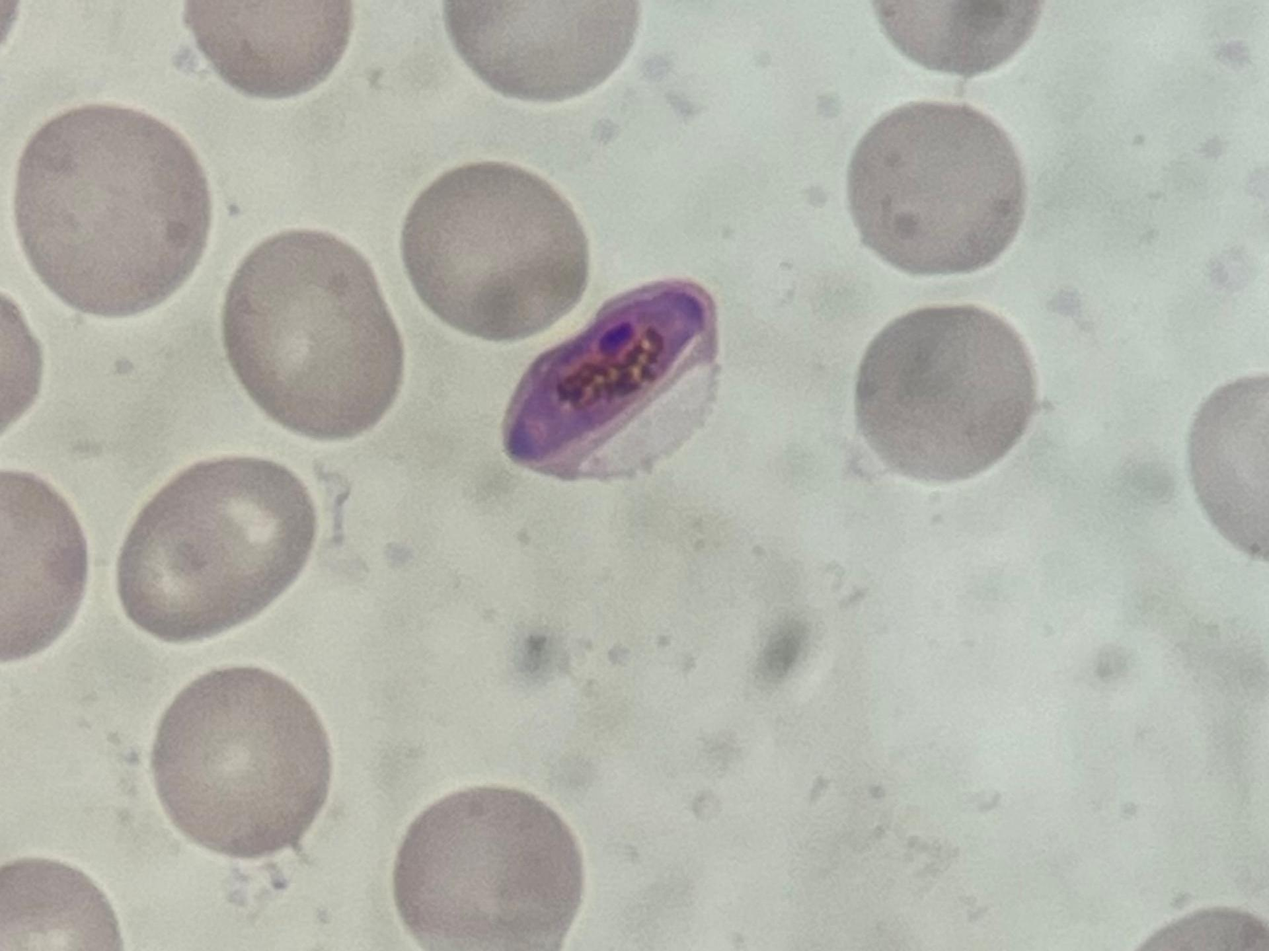Infected: (502, 278, 720, 486)
Uninfected: (15, 106, 210, 314), (225, 232, 408, 443), (399, 159, 596, 345), (119, 461, 319, 642), (150, 668, 333, 855), (848, 305, 1037, 486), (846, 102, 1030, 276), (392, 794, 585, 951), (441, 0, 643, 105), (187, 0, 354, 98)
